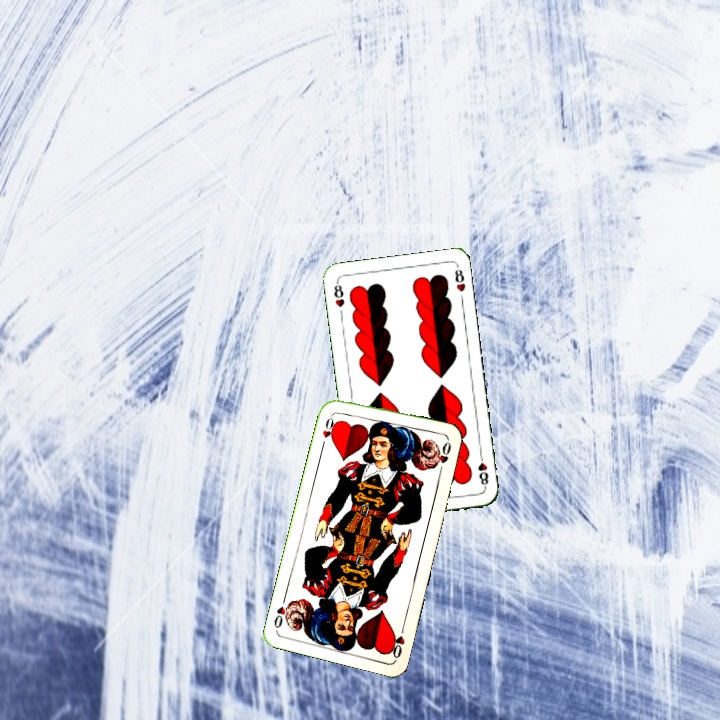H8: (474, 450, 491, 490), (330, 278, 347, 310)
HO: (318, 409, 340, 449), (386, 621, 407, 661)
